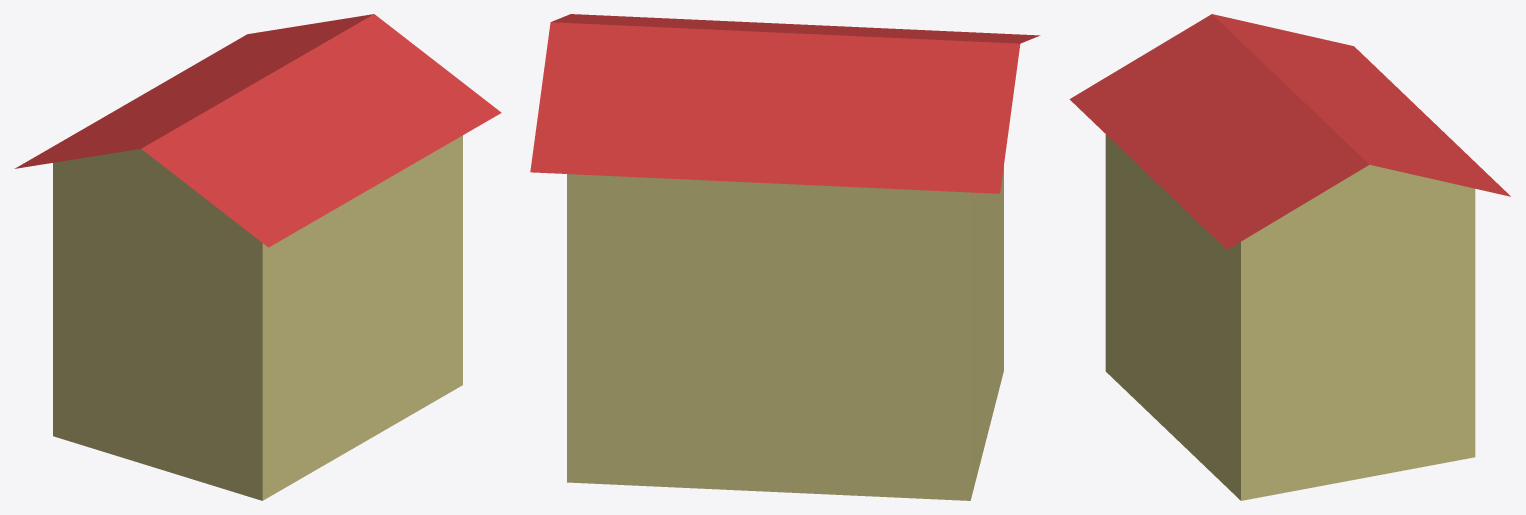
3 views of the same model, side by side, from view 1: azimuth 30°, elevation 25°; view 2: azimuth 150°, elevation 25°; view 3: azimuth 270°, elevation 25° (orthographic). The views are drawn at different scales.
Bounding box in the file's own units: 8.79 × 8.06 × 6.53.
